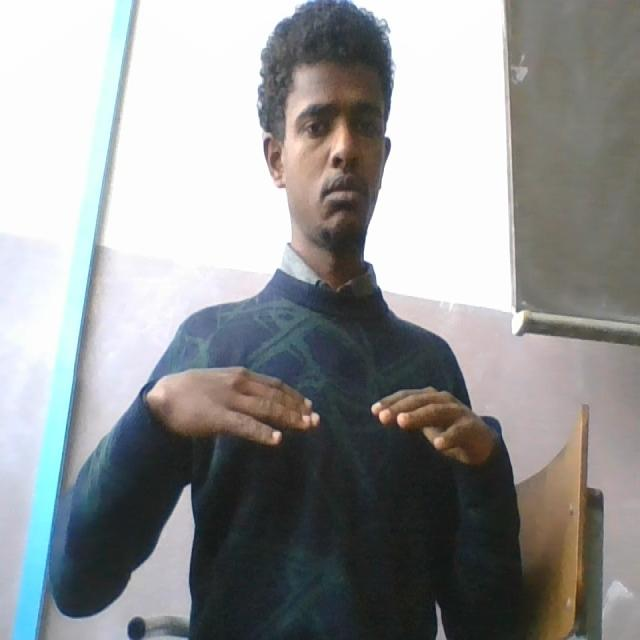meznanat: (161, 354, 500, 488)
